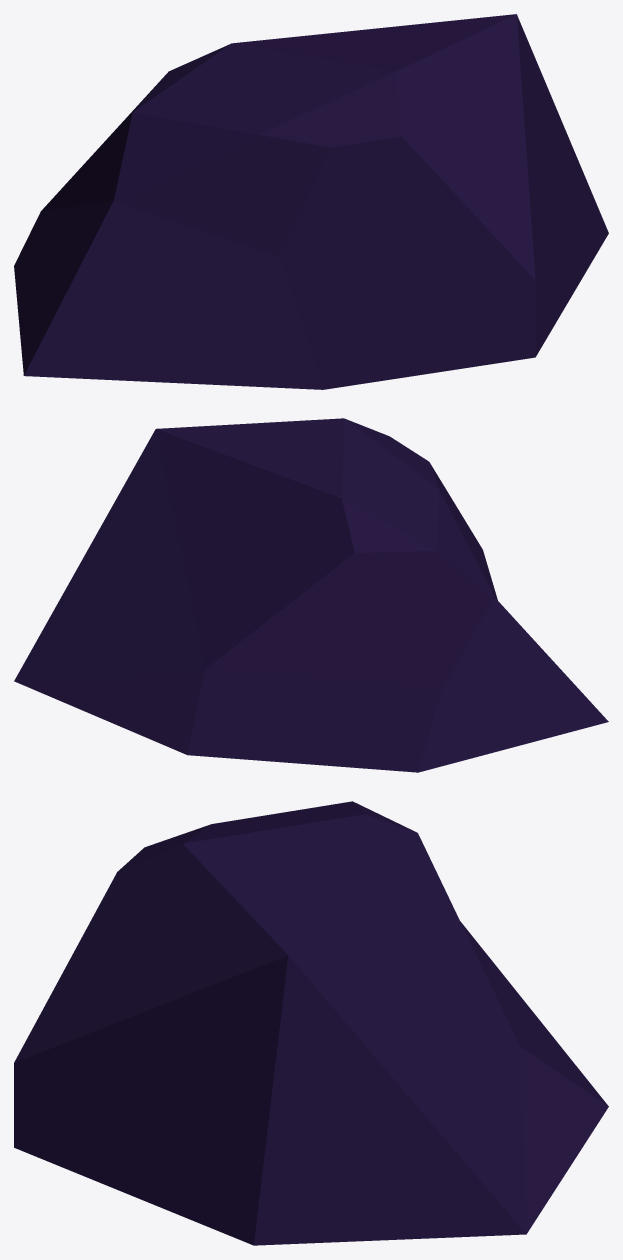
The model's file is stone_014_grp.fbx.
The picture shows the model from 3 angles, top to bottom: view 1: azimuth 30°, elevation 25°; view 2: azimuth 150°, elevation 25°; view 3: azimuth 270°, elevation 25°; orthographic projection. The views are drawn at different scales.
Visible parts, largest first — view 1: stone_014_grp; view 2: stone_014_grp; view 3: stone_014_grp.
Boxes of the visible parts, x1,y1,x2,y2 form: stone_014_grp: [14, 14, 608, 389]; stone_014_grp: [14, 418, 608, 772]; stone_014_grp: [14, 801, 608, 1245].
Bounding box in the file's own units: 125 × 50 × 100.
